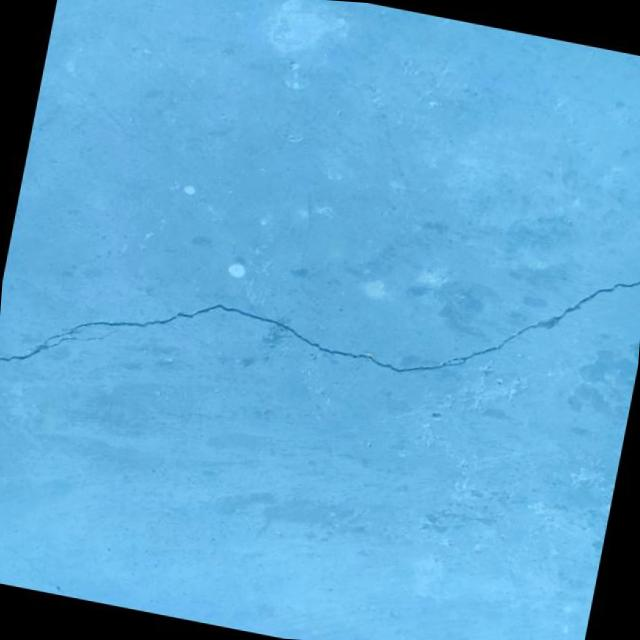crack: (0, 154, 640, 485)
